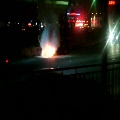fire: (41, 44, 56, 58)
